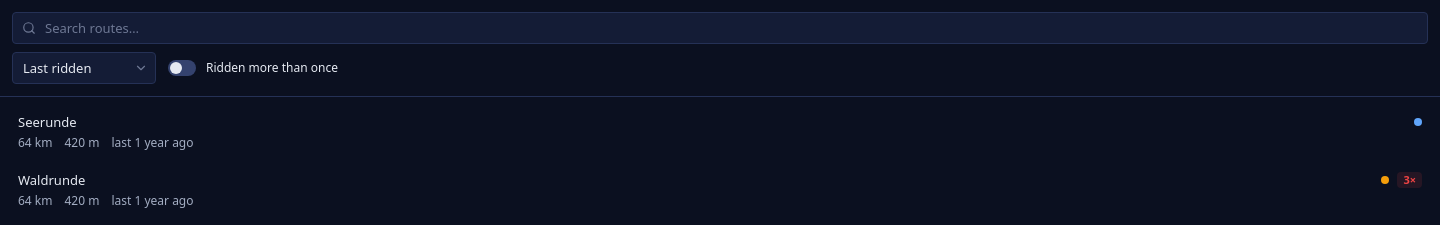
RoutesTab › lists routes (most recent first) and filters repeated ones
This screenshot has width=1440, height=225.
Check: the text "3×" is shown, box [1397, 172, 1422, 188]
Click the switch labelled "Ridden more than once" at {"x": 253, "y": 68}, box [168, 60, 338, 76]
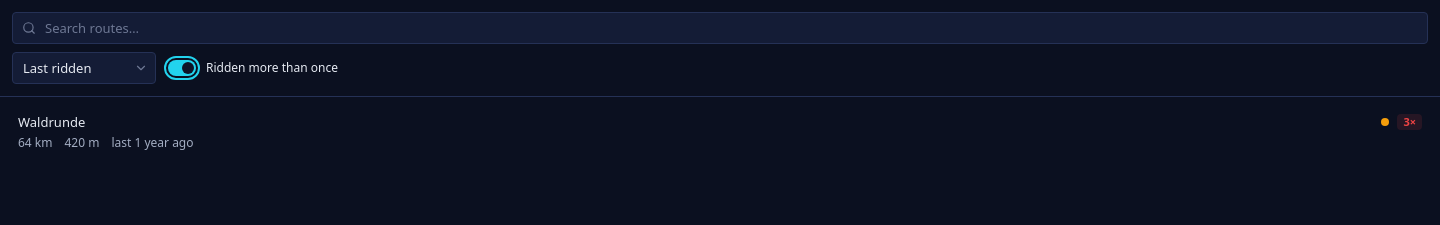
Check: the button "Seerunde" is gone
